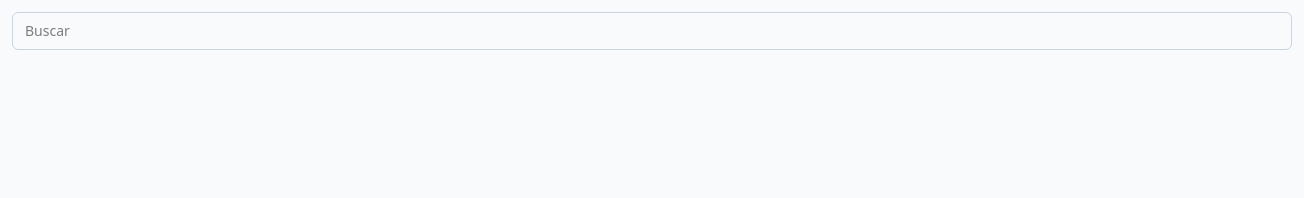
Test case: SearchCombobox › al abrir lista opciones, filtra al escribir (en el servidor) y elige con el mouse
Focus the dropdown: (652, 31) [12, 12, 1292, 50]
Wait 300 ms
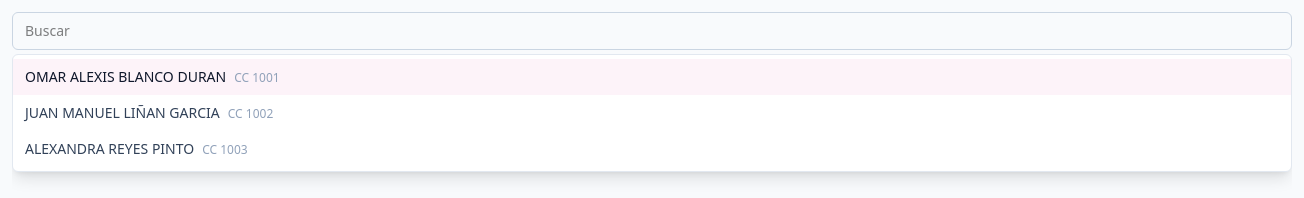
expect the number of options is 3: met, box [13, 59, 1291, 95]; [25, 103, 273, 122]; [25, 139, 248, 158]
In the dropdown: (652, 31) [12, 12, 1292, 50], type "alexandra"
Wait 300 ms
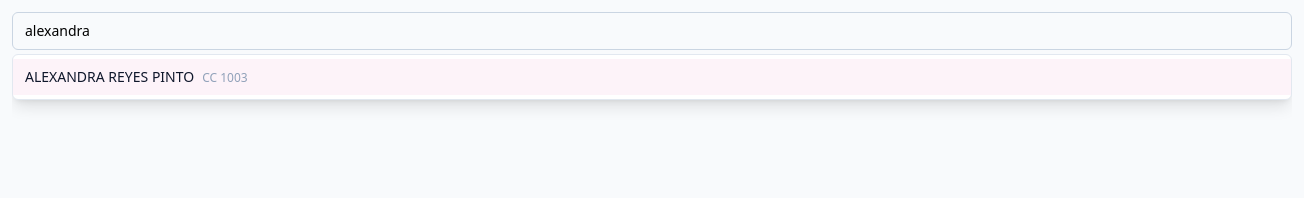
expect the number of options is 1: met
Press the mouse on the option: (110, 76) [13, 59, 1291, 95]
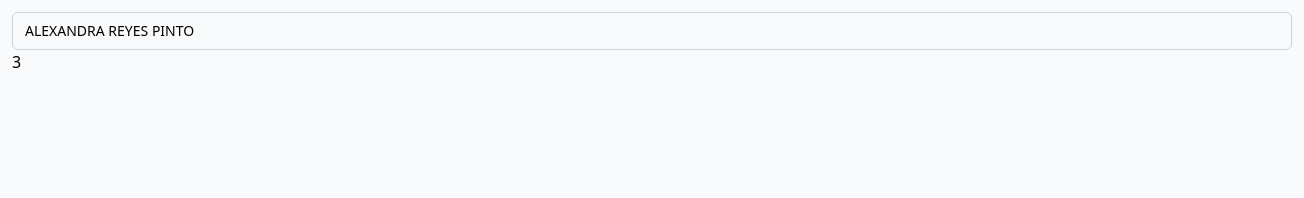
expect the text with test id "value" reads "3": met, box [12, 51, 21, 73]
expect the list is gone: met
expect the dropdown holds "ALEXANDRA REYES PINTO": met, box [12, 12, 1292, 50]
